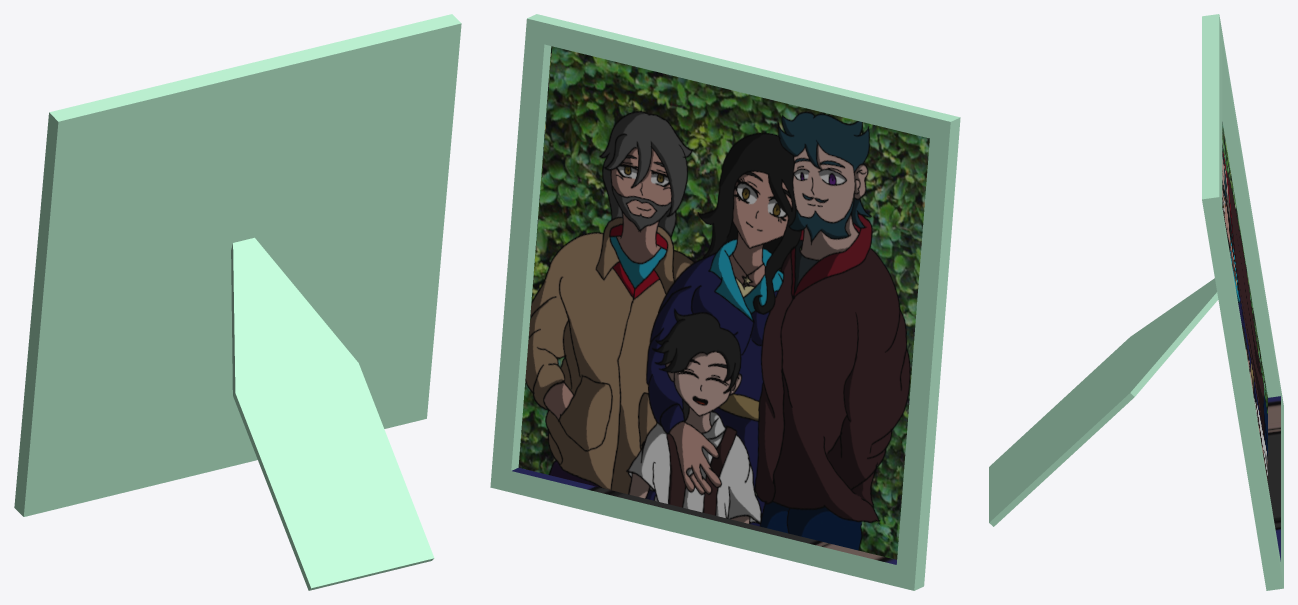
File: Completed Family Photo Frame.fbx
The picture shows the model from 3 angles, left to right: view 1: azimuth 30°, elevation 25°; view 2: azimuth 150°, elevation 25°; view 3: azimuth 270°, elevation 25°; orthographic projection. The views are drawn at different scales.
Parts seen in each view (by area): view 1: Plane; view 2: Plane; view 3: Plane.
Part boxes in pixels (x1,y1,x2,y2): Plane: (14,14,461,590); Plane: (490,14,960,590); Plane: (989,14,1283,590).
Size of the model in its own units: 198 by 199 by 135.
2 materials, 1 textured.
